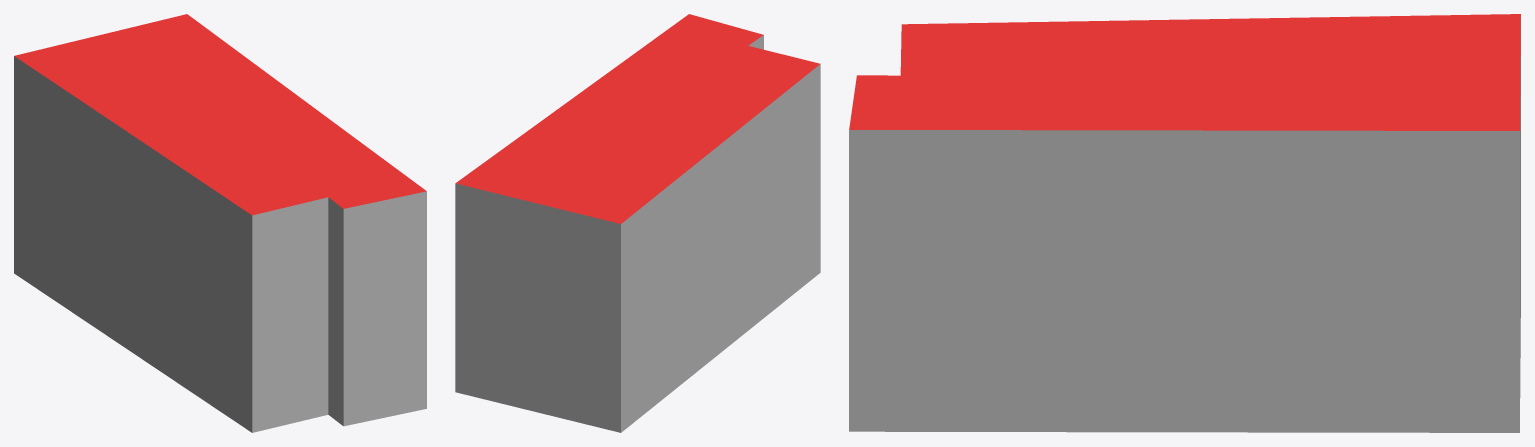
Rendered from DEBY_LOD2_4726704.dae.
3 renders of one model, left to right at view 1: azimuth 30°, elevation 25°; view 2: azimuth 150°, elevation 25°; view 3: azimuth 270°, elevation 25°, orthographic. The views are drawn at different scales.
Size of the model in its own units: 2.85 by 6.91 by 3.43.
